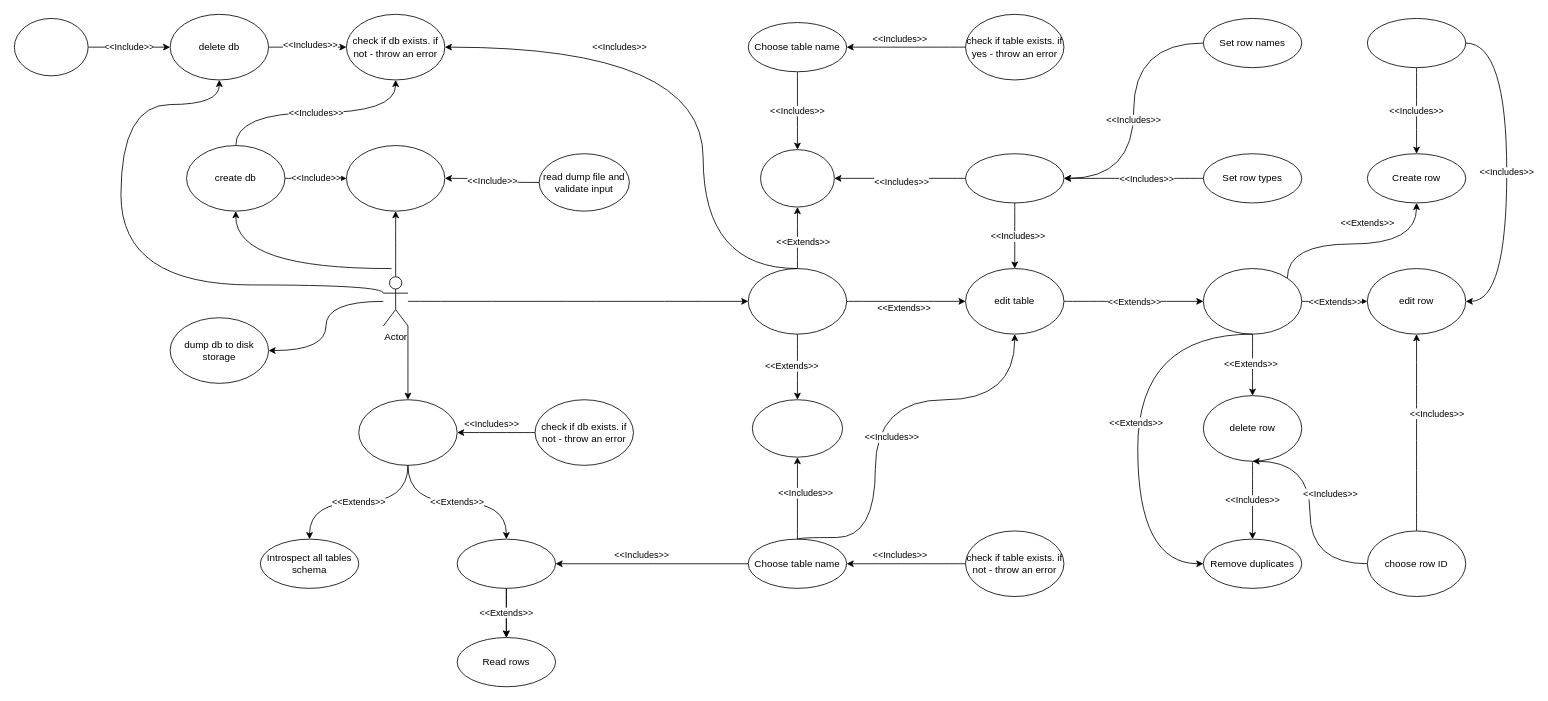
The diagram is 1548 pixels wide and 701 high, and some of its shapes have lost their labels. Each missing label, with the centre of its shape:
"create table" goes at (797,178).
"delete all tables" goes at (51,47).
"delete one table" goes at (797,428).
"dump db from disk storage" goes at (395,178).
"edit db" goes at (797,301).
"edit rows" goes at (1252,301).
"read db" goes at (407,432).
"Read table" goes at (506,563).
"Set table schema" goes at (1014,178).
"Validate by schema" goes at (1416,43).
